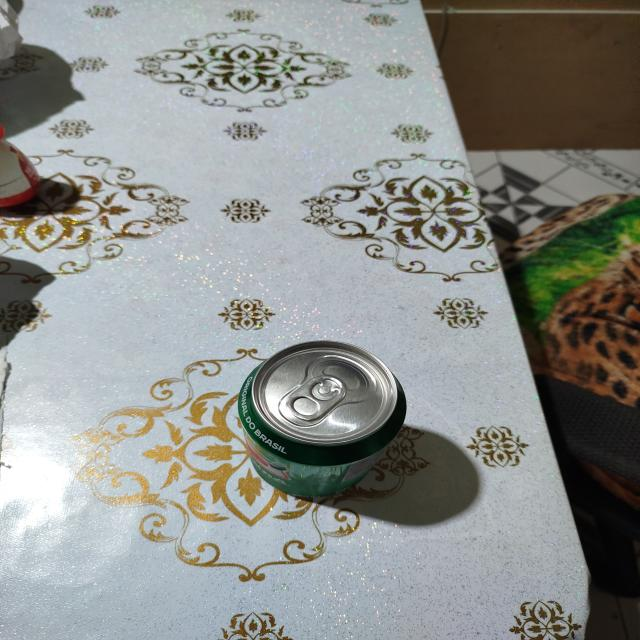Guarana: (239, 338, 403, 500)
